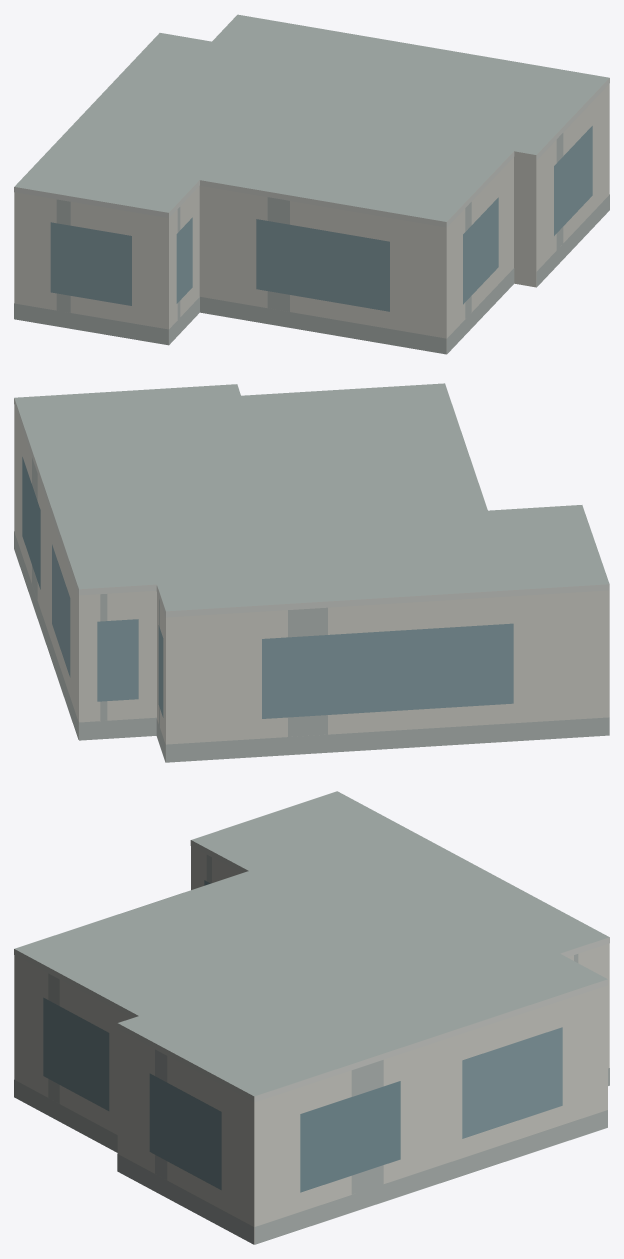
File: residential-85decbf4-03b2-422a-ab50-d0b486751aab.glb
The picture shows the model from 3 angles, top to bottom: view 1: azimuth 30°, elevation 25°; view 2: azimuth 150°, elevation 25°; view 3: azimuth 270°, elevation 25°; orthographic projection. The views are drawn at different scales.
Parts seen in each view (by area): view 1: residential-85decbf4-03b2-422a-ab50-d0b486751aab.tmp; view 2: residential-85decbf4-03b2-422a-ab50-d0b486751aab.tmp; view 3: residential-85decbf4-03b2-422a-ab50-d0b486751aab.tmp.
Boxes of the visible parts, <box> form: residential-85decbf4-03b2-422a-ab50-d0b486751aab.tmp: <box>14,14,609,354</box>; residential-85decbf4-03b2-422a-ab50-d0b486751aab.tmp: <box>14,383,609,762</box>; residential-85decbf4-03b2-422a-ab50-d0b486751aab.tmp: <box>14,791,609,1244</box>.
Size of the model in its own units: 13.48 by 3.05 by 11.11.
